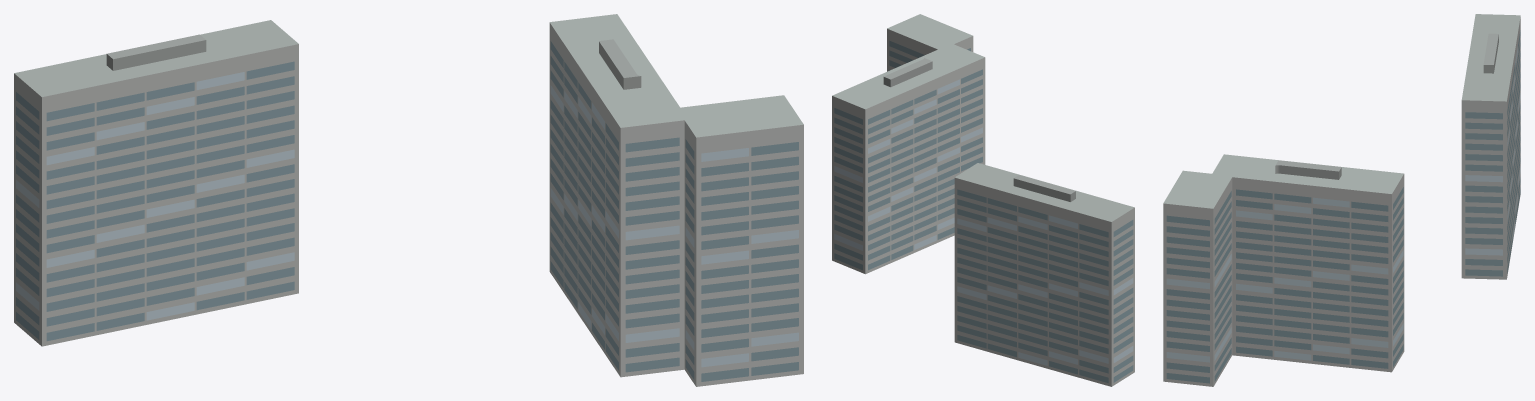
File: apt-a15676702.glb
The picture shows the model from 3 angles, left to right: view 1: azimuth 30°, elevation 25°; view 2: azimuth 150°, elevation 25°; view 3: azimuth 270°, elevation 25°; orthographic projection. The views are drawn at different scales.
Parts seen in each view (by area): view 1: apt-a15676702; view 2: apt-a15676702; view 3: apt-a15676702.
Boxes of the visible parts, left/top/right/bottom form: apt-a15676702: left=14, top=14, right=803, bottom=386; apt-a15676702: left=832, top=14, right=1134, bottom=386; apt-a15676702: left=1163, top=14, right=1520, bottom=386.
Bounding box in the file's own units: 103 × 46 × 79.89.
